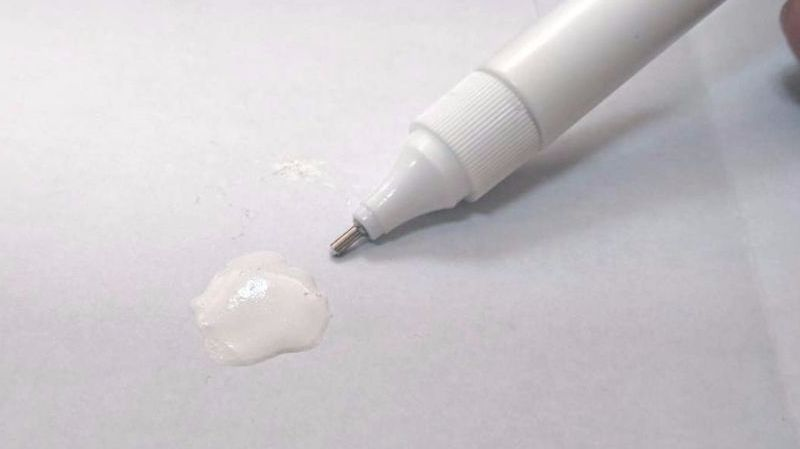Correction_fluid: (322, 1, 734, 265)
